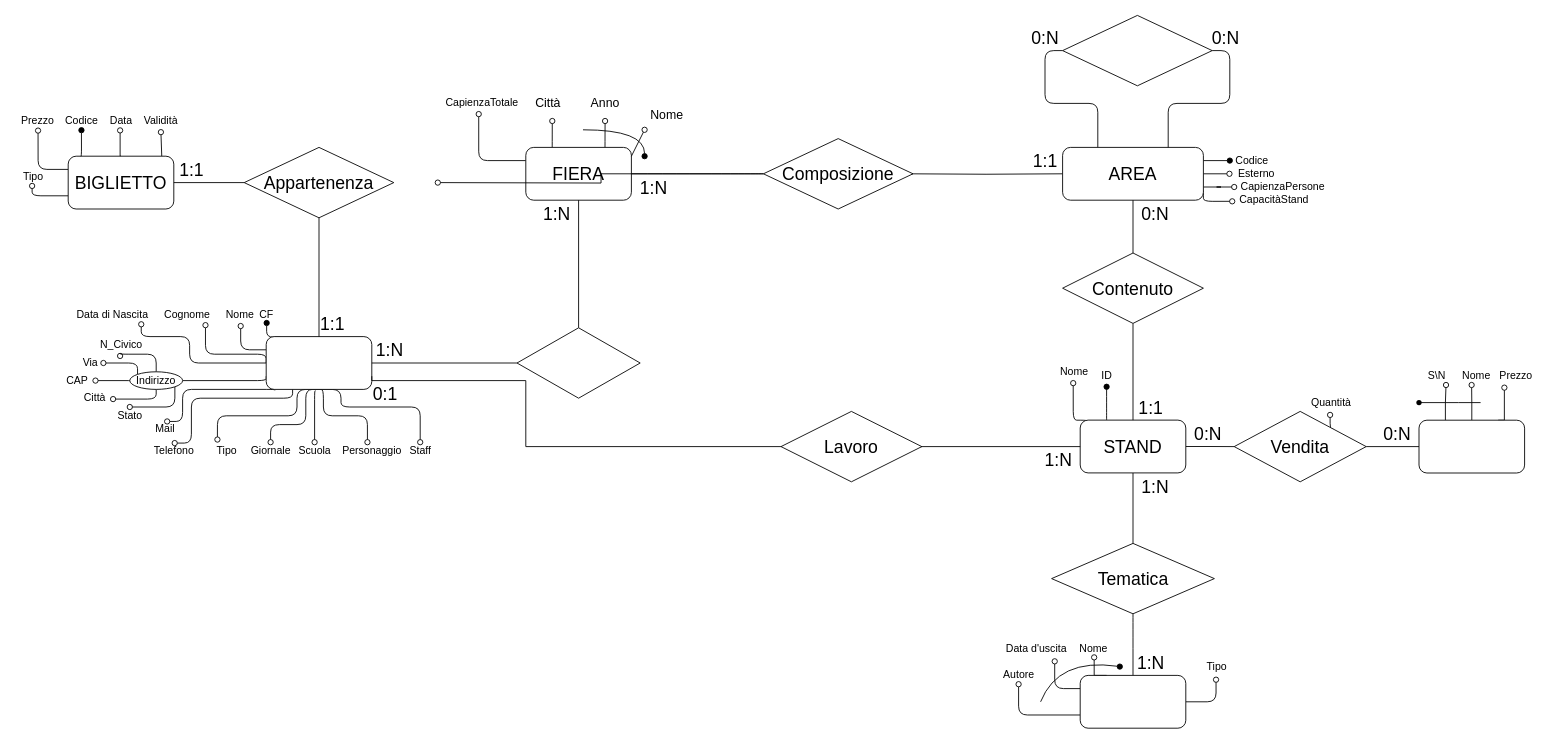
This 1552x744 diagram has some shape labels left out. The shapes that lost their labels are listed below. From the top down, each one's centre as x and y in pixels, then its label:
At (1137,50): "Collegamento".
At (318,362): "PERSONA".
At (578,362): "Visita".
At (1471,446): "ARTICOLO".
At (1132,701): "TEMA".
